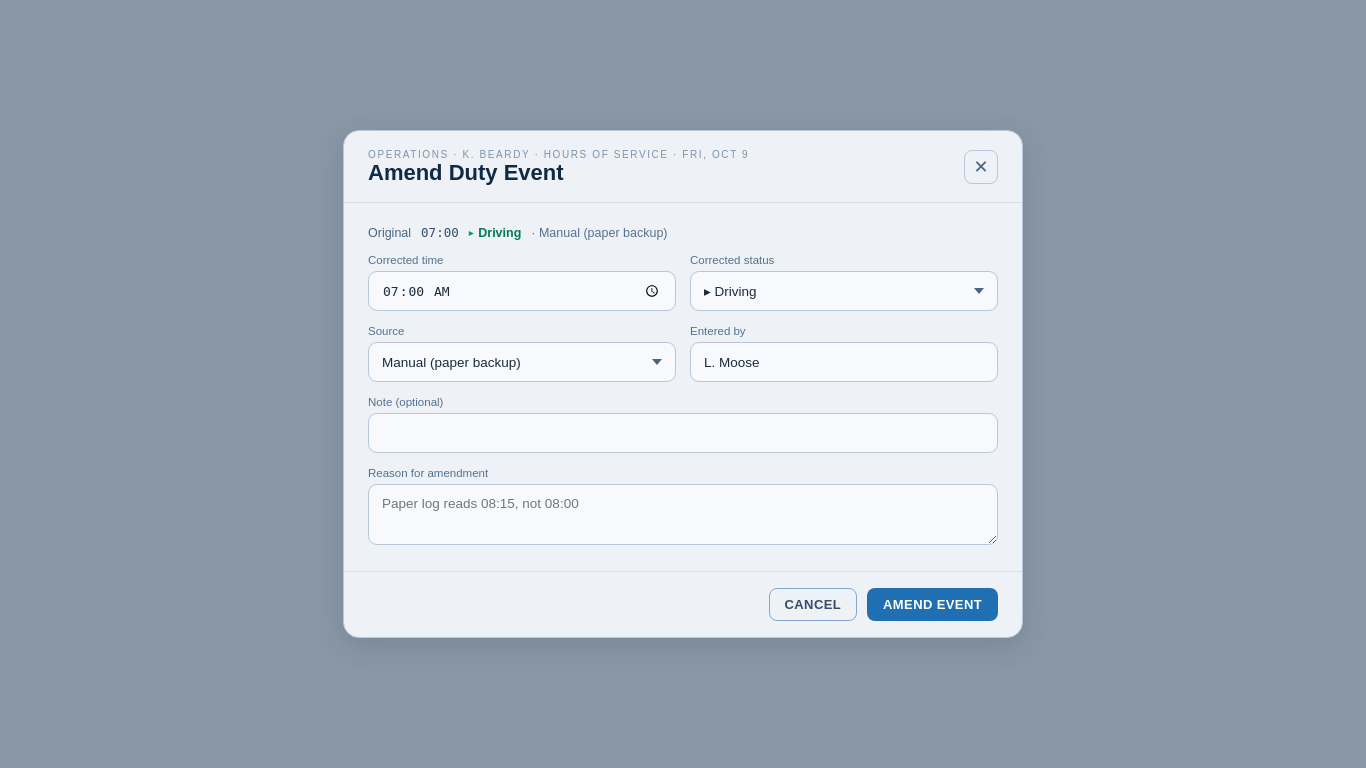
Scenario: AmendEventModal › requires a reason before it will POST
Click the text "AMEND EVENT" at (933, 604), box [867,588,998,621]
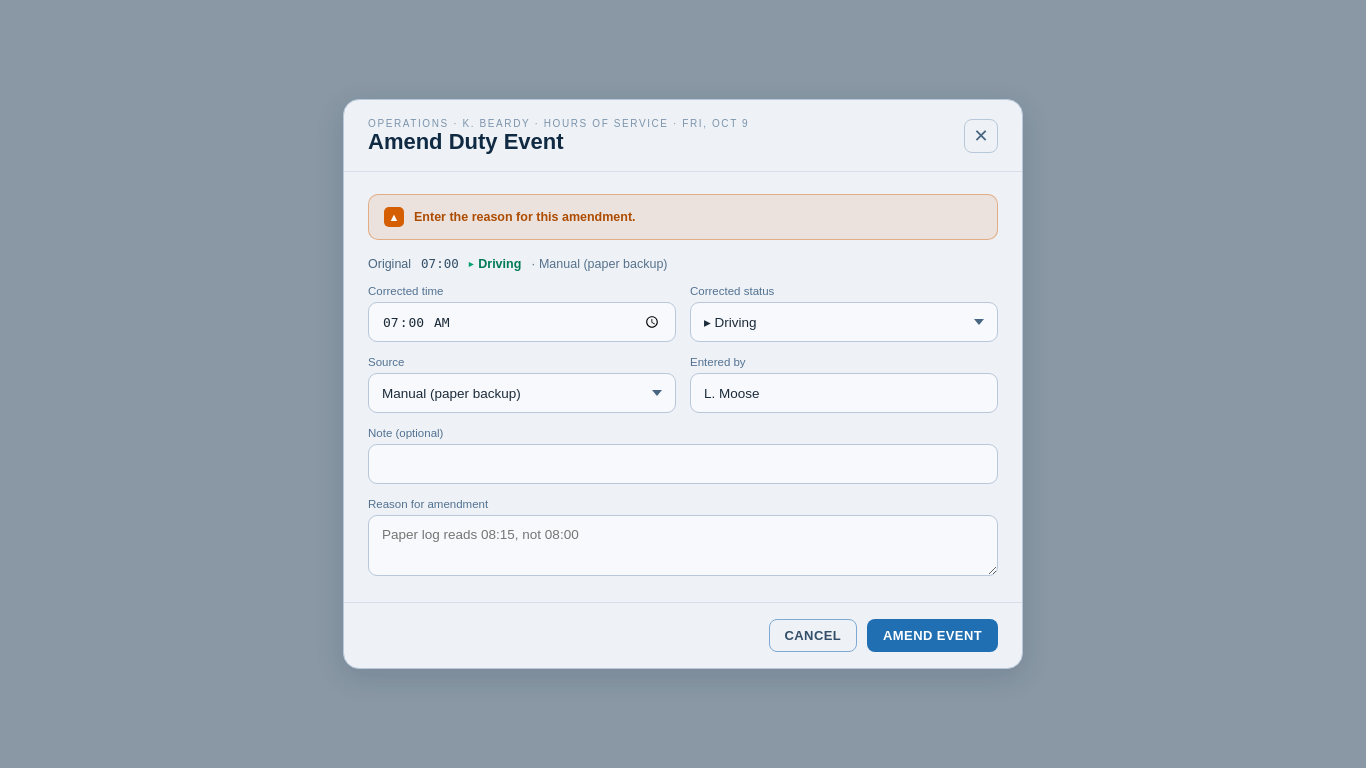
Now the text "Enter the reason for this amendment." is shown, box [414,210,636,224]
